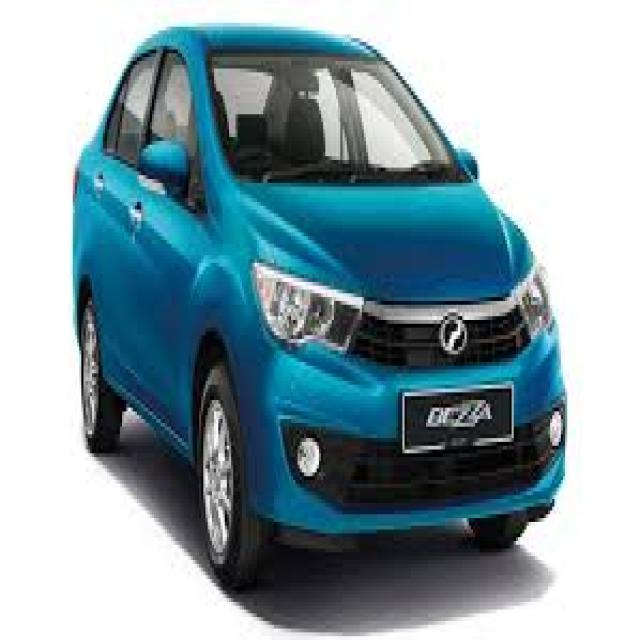PeroduaBezza: (71, 19, 567, 591)
